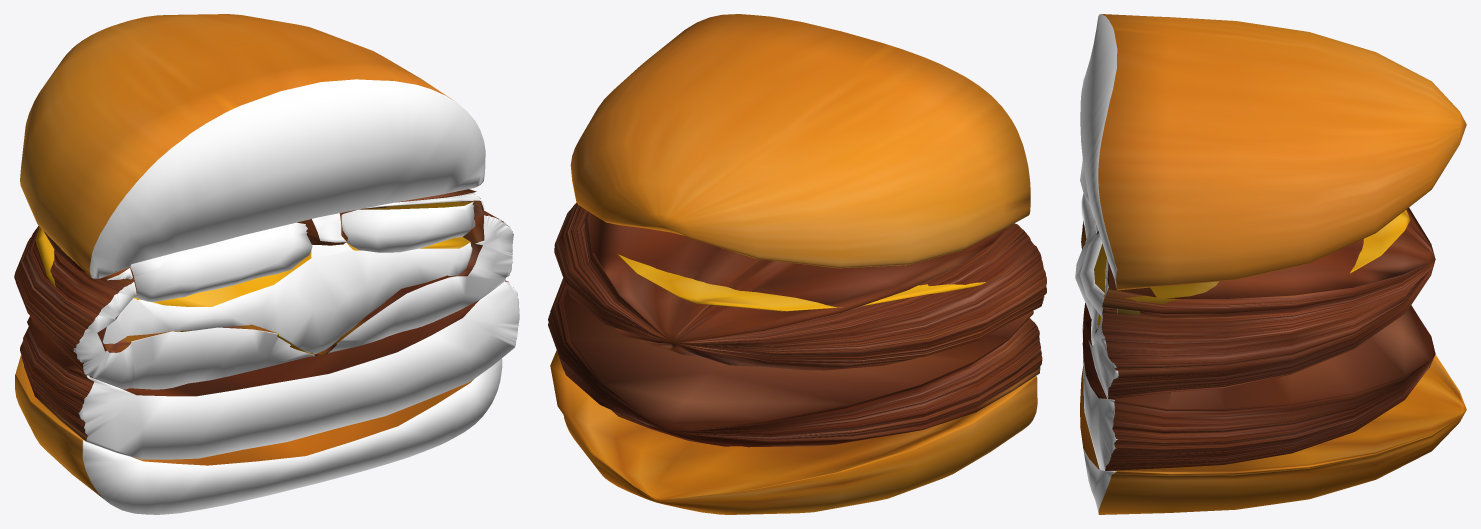
Rendered from plant-based-burger-doppio.glb.
3 views of the same model, side by side, from view 1: azimuth 30°, elevation 25°; view 2: azimuth 150°, elevation 25°; view 3: azimuth 270°, elevation 25° (orthographic). The views are drawn at different scales.
Visible parts, largest first — view 1: ingredient_00_top_bun_solid, ingredient_04_lower_plant_patty_solid, ingredient_03_top_plant_patty_solid, ingredient_05_bottom_bun_solid, ingredient_02_cheddar_solid, ingredient_01_pickles_solid; view 2: ingredient_00_top_bun_solid, ingredient_03_top_plant_patty_solid, ingredient_04_lower_plant_patty_solid, ingredient_05_bottom_bun_solid, ingredient_02_cheddar_solid; view 3: ingredient_00_top_bun_solid, ingredient_03_top_plant_patty_solid, ingredient_04_lower_plant_patty_solid, ingredient_05_bottom_bun_solid, ingredient_01_pickles_solid, ingredient_02_cheddar_solid.
Part boxes in pixels (left/top/right/bottom): ingredient_00_top_bun_solid: left=20, top=14, right=485, bottom=278; ingredient_04_lower_plant_patty_solid: left=20, top=280, right=519, bottom=459; ingredient_03_top_plant_patty_solid: left=14, top=189, right=513, bottom=389; ingredient_05_bottom_bun_solid: left=15, top=355, right=502, bottom=514; ingredient_02_cheddar_solid: left=35, top=227, right=472, bottom=354; ingredient_01_pickles_solid: left=128, top=201, right=475, bottom=301; ingredient_00_top_bun_solid: left=570, top=14, right=1030, bottom=268; ingredient_03_top_plant_patty_solid: left=554, top=203, right=1046, bottom=370; ingredient_04_lower_plant_patty_solid: left=548, top=278, right=1042, bottom=447; ingredient_05_bottom_bun_solid: left=550, top=350, right=1037, bottom=514; ingredient_02_cheddar_solid: left=617, top=254, right=985, bottom=311; ingredient_00_top_bun_solid: left=1080, top=14, right=1466, bottom=290; ingredient_03_top_plant_patty_solid: left=1081, top=207, right=1435, bottom=399; ingredient_04_lower_plant_patty_solid: left=1082, top=303, right=1435, bottom=470; ingredient_05_bottom_bun_solid: left=1080, top=354, right=1466, bottom=514; ingredient_01_pickles_solid: left=1080, top=160, right=1218, bottom=316; ingredient_02_cheddar_solid: left=1075, top=193, right=1410, bottom=346.
Size of the model in its own units: 1.66 by 1.43 by 1.26.
